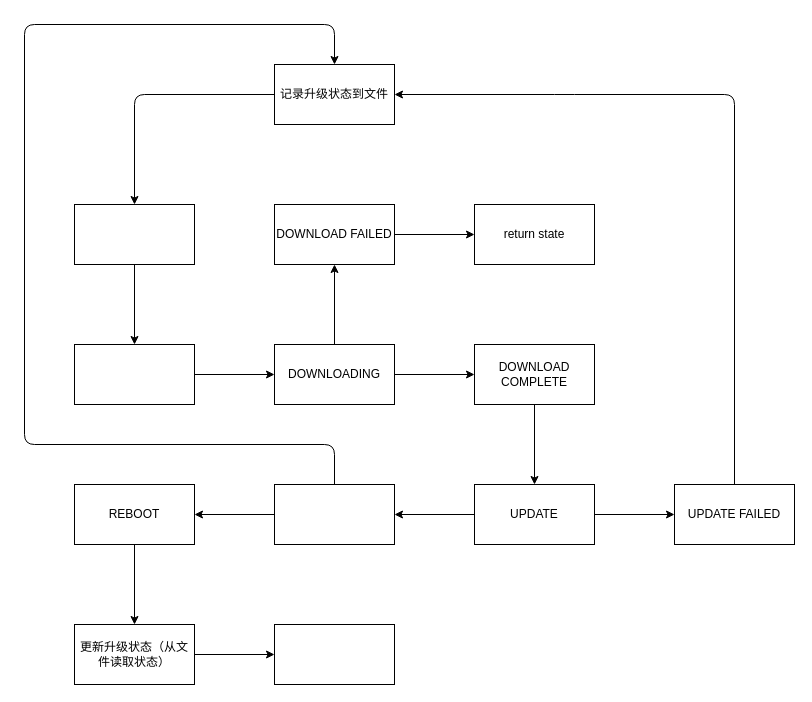
Some shapes in this 812 by 702 pixel diagram are drawn without their labels. Here are the shapes that lost their labels. From the top down, the centre of each, then its label:
[134,234]: unknow
[134,374]: start
[334,514]: UPDATE SUCCESS
[334,654]: 平台调用接口获取升级状态
